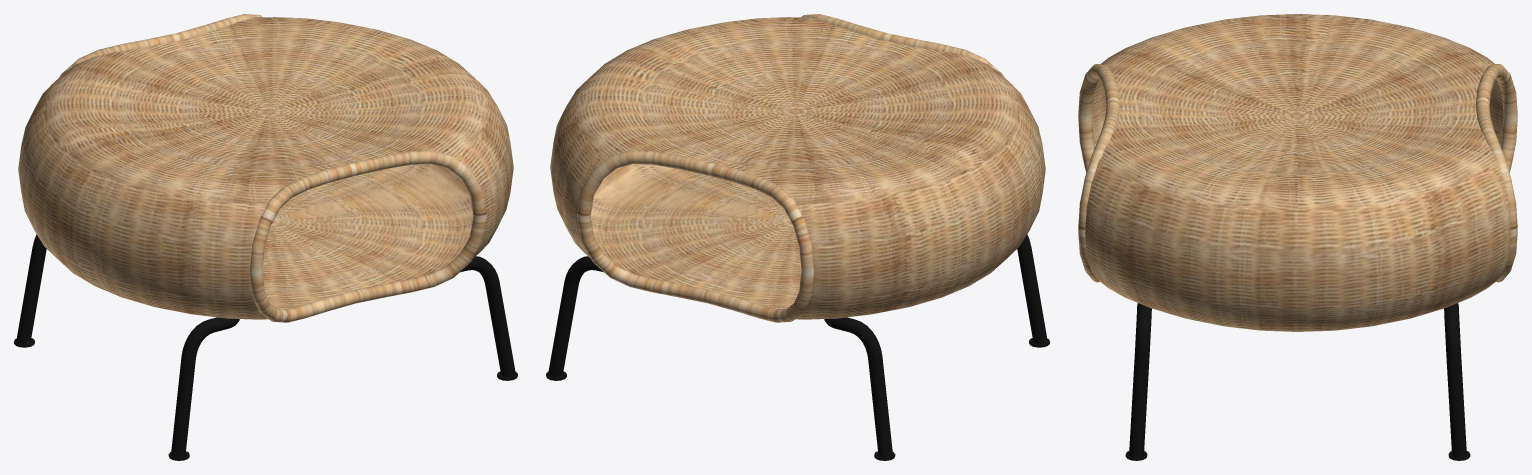
Rendered from gamlehult_podnozek_ze_schowkiem_10434309.glb.
3 views of the same model, side by side, from view 1: azimuth 30°, elevation 25°; view 2: azimuth 150°, elevation 25°; view 3: azimuth 270°, elevation 25° (orthographic). The views are drawn at different scales.
Parts seen in each view (by area): view 1: gamlehult_podnozek_ze_schowkiem_10434309; view 2: gamlehult_podnozek_ze_schowkiem_10434309; view 3: gamlehult_podnozek_ze_schowkiem_10434309.
Part boxes in pixels (bbox=[...]): gamlehult_podnozek_ze_schowkiem_10434309: bbox=[14, 14, 517, 460]; gamlehult_podnozek_ze_schowkiem_10434309: bbox=[546, 14, 1049, 460]; gamlehult_podnozek_ze_schowkiem_10434309: bbox=[1078, 14, 1517, 460].
Size of the model in its own units: 0.62 by 0.36 by 0.525.
1 material, 1 textured.
